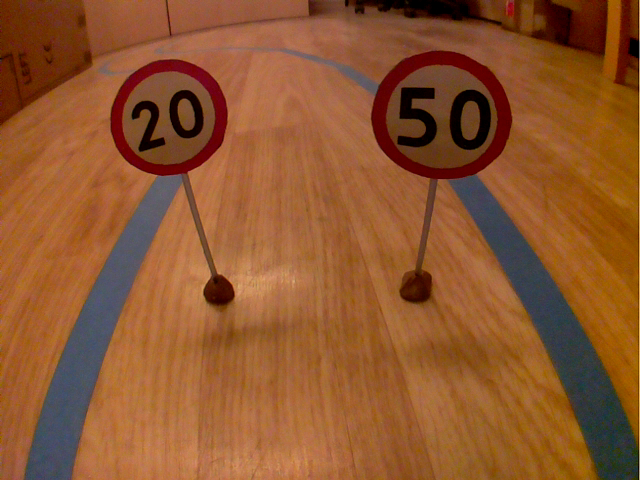Ograniczenie 20: (104, 55, 233, 182)
Ograniczenie 50: (364, 47, 518, 184)
